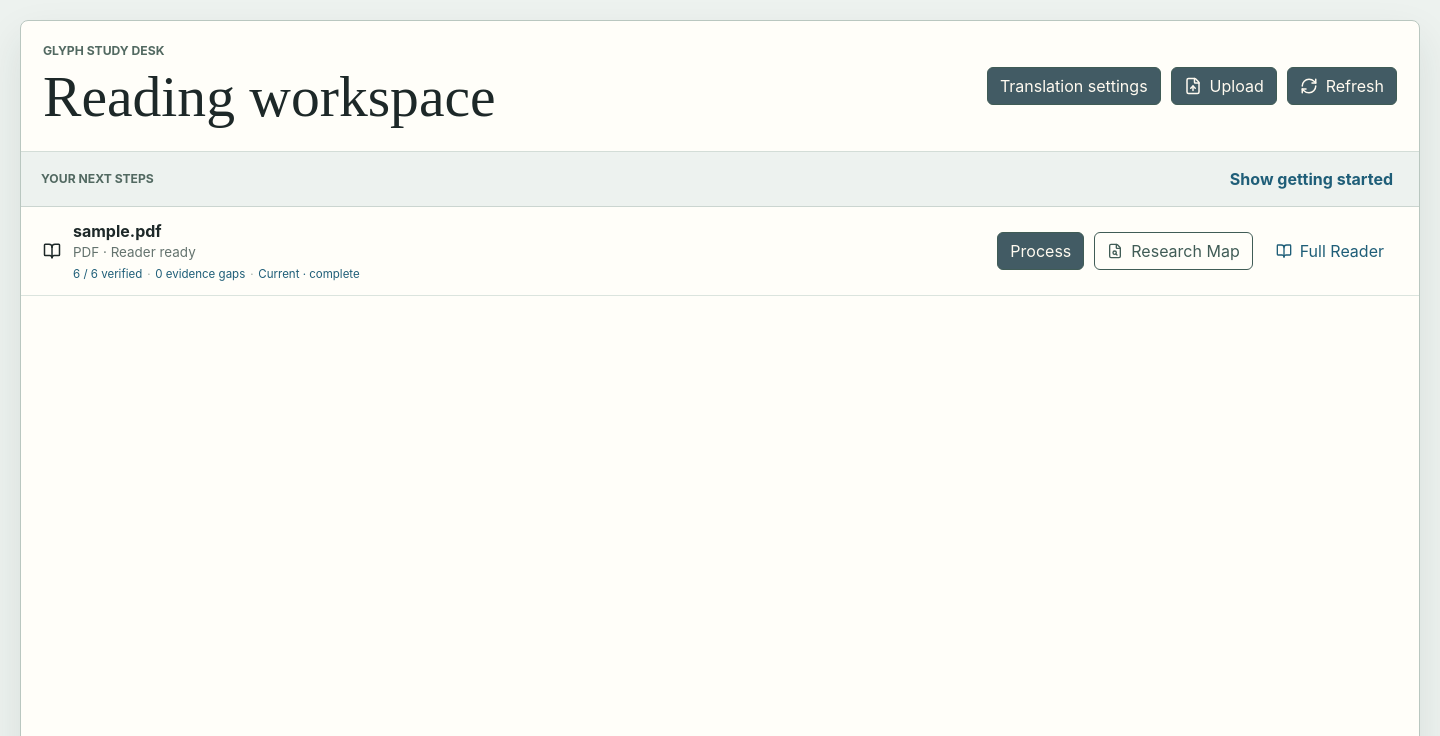
Test: App › keeps Research Map primary when a current Map has no contract
Click the button with aria-label "Open Research Map for sample.pdf": click(1174, 251) [1094, 232, 1253, 270]
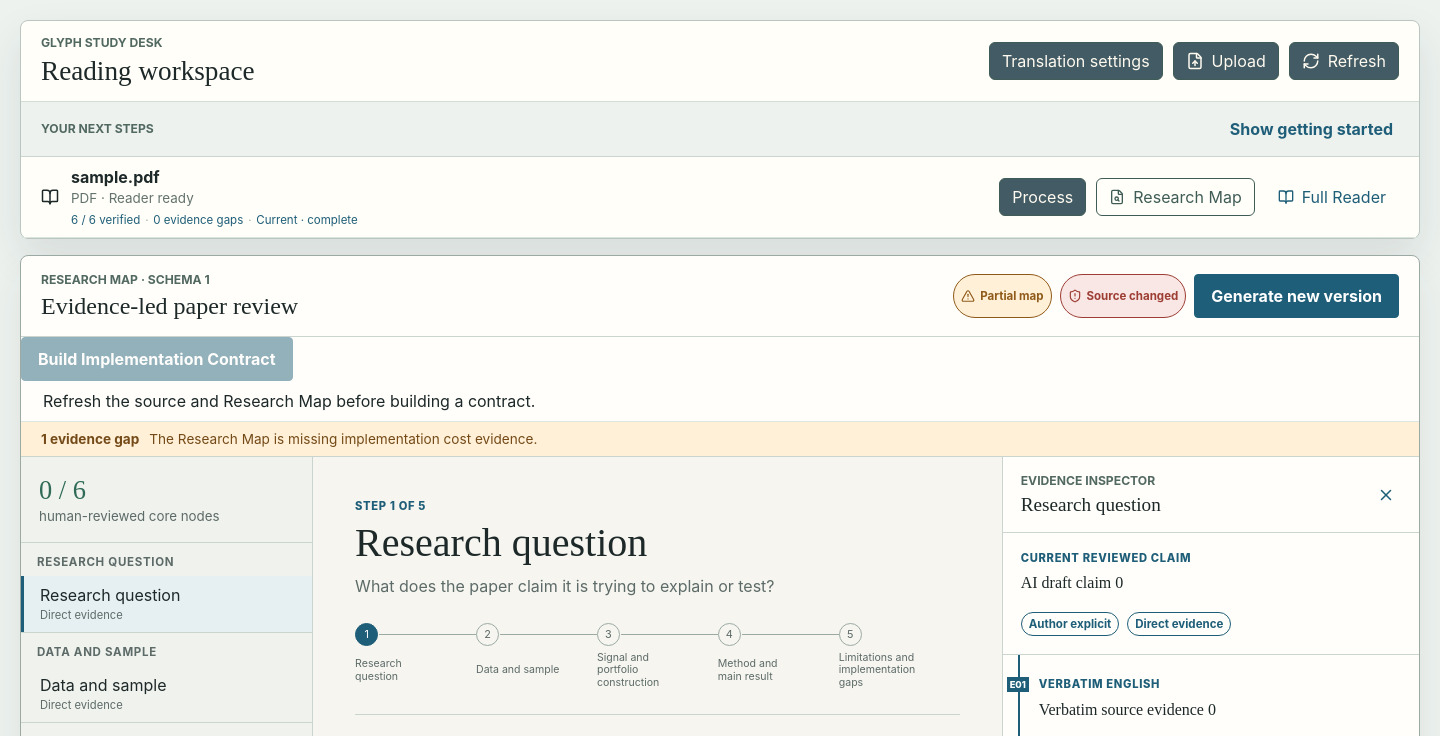
Expected: the button "Build Implementation Contract" is shown, [21, 337, 292, 381]
